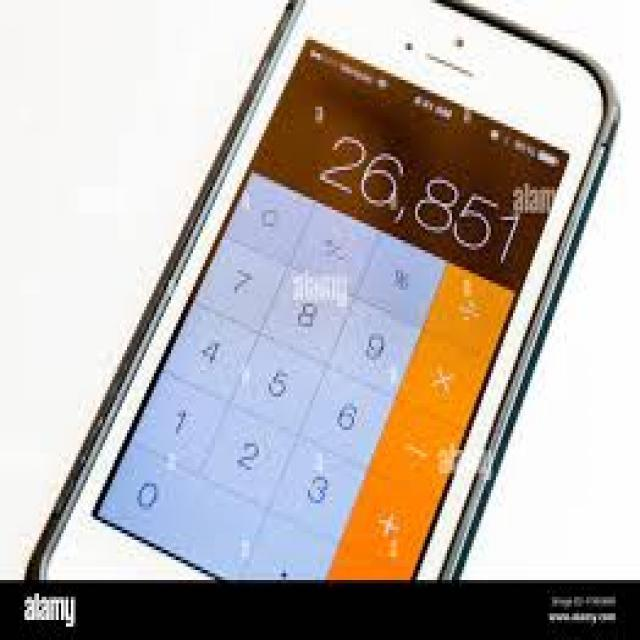Calculator: (20, 0, 622, 583)
